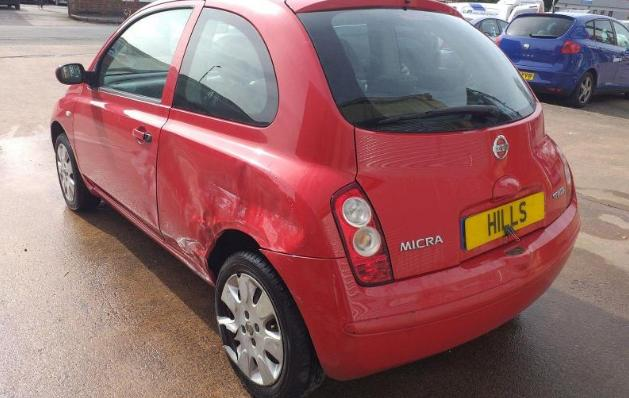Back-bumper: (257, 167, 581, 382)
Back-wheel: (214, 249, 326, 397)
Back-window: (173, 6, 278, 127)
Back-windshield: (295, 9, 536, 134)
Fender: (50, 83, 87, 168)
Front-door: (72, 0, 205, 240)
Front-wheel: (54, 131, 100, 211)
Front-window: (97, 9, 194, 99)
License-plate: (460, 191, 546, 252)
Mirror: (55, 59, 100, 88)
Quarter-panel: (157, 107, 357, 272)
Rocker-panel: (77, 170, 216, 290)
Tail-light: (331, 180, 395, 286), (545, 134, 572, 210)
Trunk: (355, 80, 567, 282)
